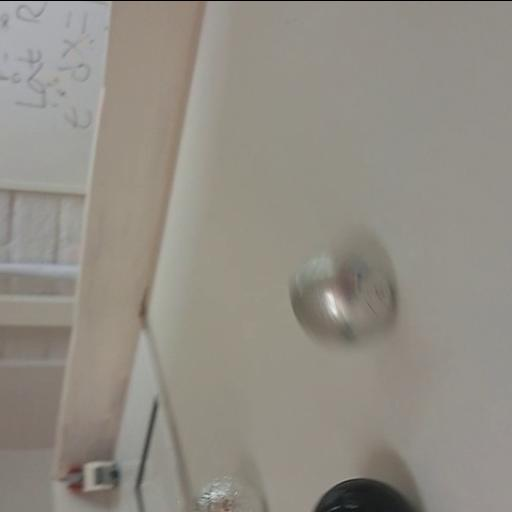alive: (288, 242, 400, 348), (191, 472, 264, 512)
dead: (308, 476, 421, 512)
